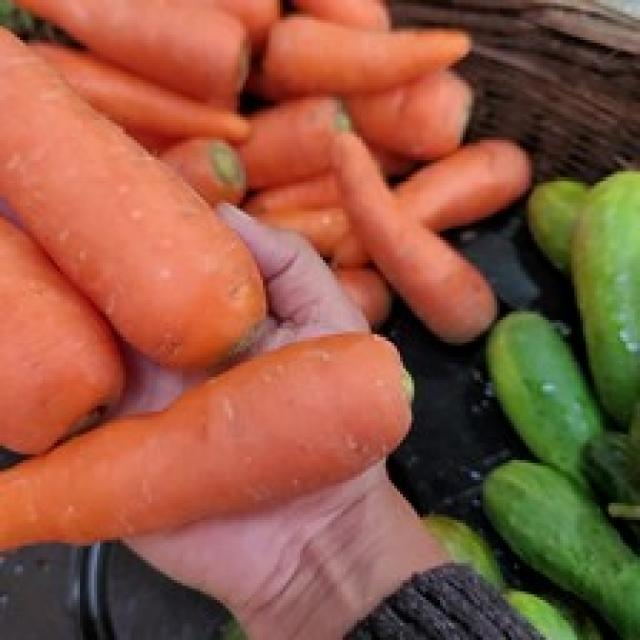Fresh_Carrot: (0, 318, 394, 567), (2, 28, 263, 350)
